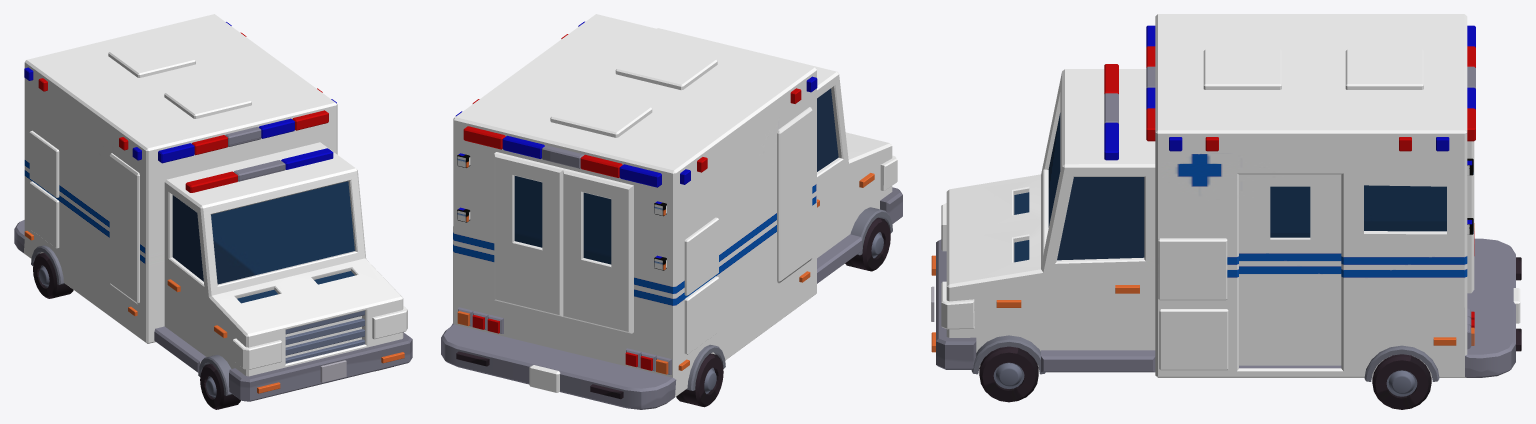
Rendered from ambulance.fbx.
The picture shows the model from 3 angles, left to right: view 1: azimuth 30°, elevation 25°; view 2: azimuth 150°, elevation 25°; view 3: azimuth 270°, elevation 25°; orthographic projection. The views are drawn at different scales.
Parts seen in each view (by area): view 1: models_f31:models_f18:models_f17:models_f16:models_f15:model, models_f31:models_f18:polySurface31, models_f31:models_f18:polySurface29; view 2: models_f31:models_f18:models_f17:models_f16:models_f15:model, models_f31:models_f18:polySurface29, models_f31:models_f18:polySurface31; view 3: models_f31:models_f18:models_f17:models_f16:models_f15:model, models_f31:models_f18:polySurface6, models_f31:models_f18:polySurface26.
Part boxes in pixels (x1,y1,x2,y2): models_f31:models_f18:models_f17:models_f16:models_f15:model: [14, 14, 412, 401]; models_f31:models_f18:polySurface31: [200, 363, 240, 409]; models_f31:models_f18:polySurface29: [33, 253, 73, 298]; models_f31:models_f18:models_f17:models_f16:models_f15:model: [441, 14, 902, 409]; models_f31:models_f18:polySurface29: [676, 353, 723, 407]; models_f31:models_f18:polySurface31: [845, 217, 890, 271]; models_f31:models_f18:models_f17:models_f16:models_f15:model: [931, 14, 1521, 381]; models_f31:models_f18:polySurface6: [979, 346, 1038, 402]; models_f31:models_f18:polySurface26: [1372, 354, 1431, 409].
Size of the model in its own units: 5.49 by 5.7 by 10.81.
